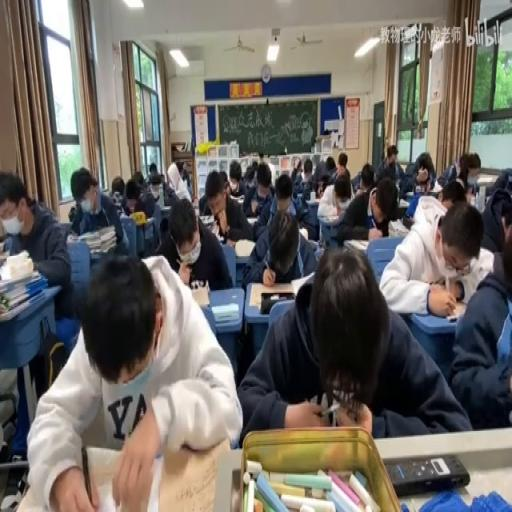calculator: (150, 437, 226, 509), (248, 282, 295, 308), (210, 300, 238, 322), (289, 272, 314, 294), (188, 284, 210, 308), (442, 299, 467, 320), (233, 236, 254, 256), (388, 218, 410, 236), (346, 238, 368, 252), (320, 212, 342, 225), (199, 215, 216, 230), (0, 247, 10, 265), (475, 174, 495, 182), (66, 232, 80, 243), (229, 193, 245, 202), (298, 226, 308, 240), (306, 196, 320, 205), (140, 216, 154, 225), (159, 202, 171, 212), (246, 216, 258, 225), (192, 196, 198, 214), (404, 191, 414, 199), (398, 198, 408, 206)
paper: (27, 244, 241, 510), (236, 245, 463, 441), (449, 214, 510, 430), (0, 170, 74, 314), (241, 202, 315, 289), (69, 165, 128, 252), (198, 168, 254, 247), (336, 173, 385, 242), (480, 176, 512, 258), (437, 151, 479, 192), (402, 151, 436, 199), (122, 176, 155, 219), (374, 144, 402, 184), (310, 156, 334, 196), (290, 156, 306, 194), (158, 176, 176, 205), (110, 175, 126, 205), (334, 152, 350, 181), (242, 160, 258, 188), (360, 164, 374, 192), (262, 155, 276, 183), (334, 182, 350, 205), (147, 160, 160, 184), (275, 190, 290, 210), (350, 170, 360, 194), (174, 160, 185, 178), (131, 171, 144, 186), (229, 170, 240, 186), (218, 168, 228, 185), (302, 161, 312, 176), (405, 162, 415, 176), (258, 151, 264, 162)
person: (384, 452, 468, 494)
